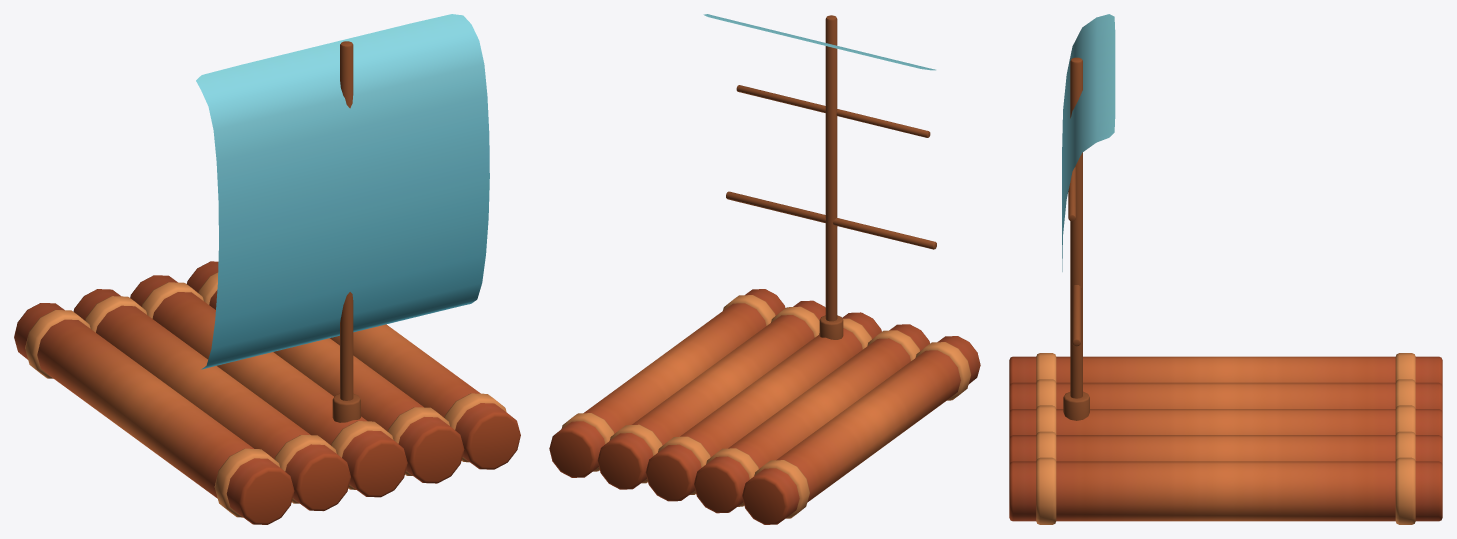
Rendered from raft.glb.
3 renders of one model, left to right at view 1: azimuth 30°, elevation 25°; view 2: azimuth 150°, elevation 25°; view 3: azimuth 270°, elevation 25°, orthographic. The views are drawn at different scales.
Parts seen in each view (by area): view 1: raft; view 2: raft; view 3: raft.
Part boxes in pixels (<box>): raft: <box>14,14,520,524</box>; raft: <box>549,14,980,524</box>; raft: <box>1009,14,1442,524</box>.
Size of the model in its own units: 1.46 by 2.09 by 2.
1 material, 1 textured.
